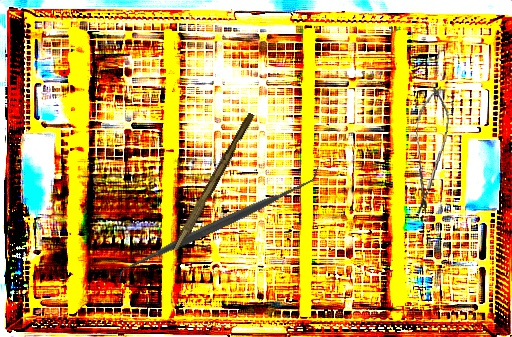Micro Scissor: (407, 84, 453, 217)
Scalpel Handle: (172, 110, 256, 254)
Spatula Surgical: (109, 164, 329, 284)
